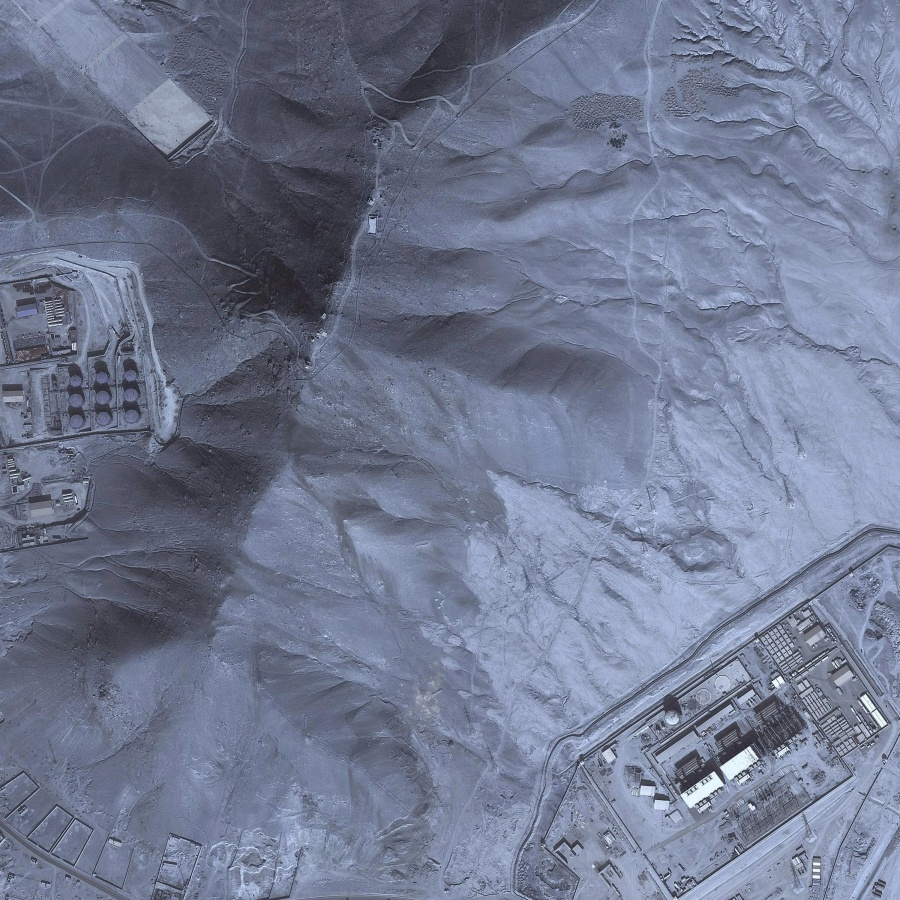PowerPlant: (638, 628, 887, 812)
